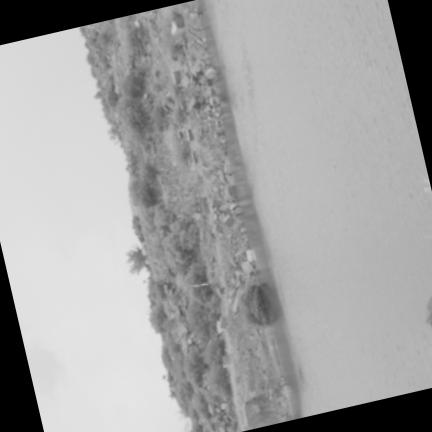Shahed: (188, 281, 210, 287)
